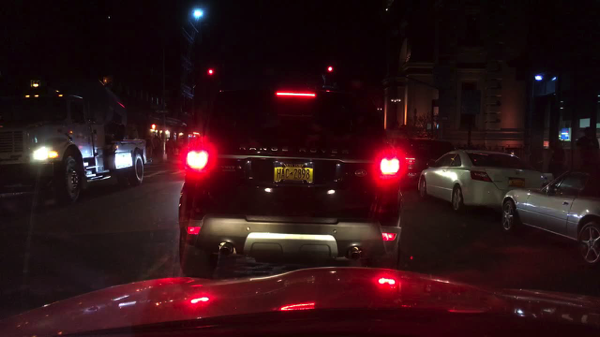car: (177, 86, 404, 281), (500, 166, 599, 265), (418, 149, 554, 216), (389, 139, 429, 183), (416, 140, 455, 164)
person: (575, 127, 599, 176), (546, 139, 565, 180), (529, 146, 543, 174), (144, 135, 154, 160), (151, 136, 160, 158), (165, 137, 174, 157), (175, 138, 180, 154)
traffic light: (208, 67, 214, 77), (327, 64, 332, 76), (150, 123, 156, 130)
traffic sign: (462, 89, 481, 114), (433, 116, 450, 121), (155, 110, 170, 113)
truck: (0, 74, 147, 207)
